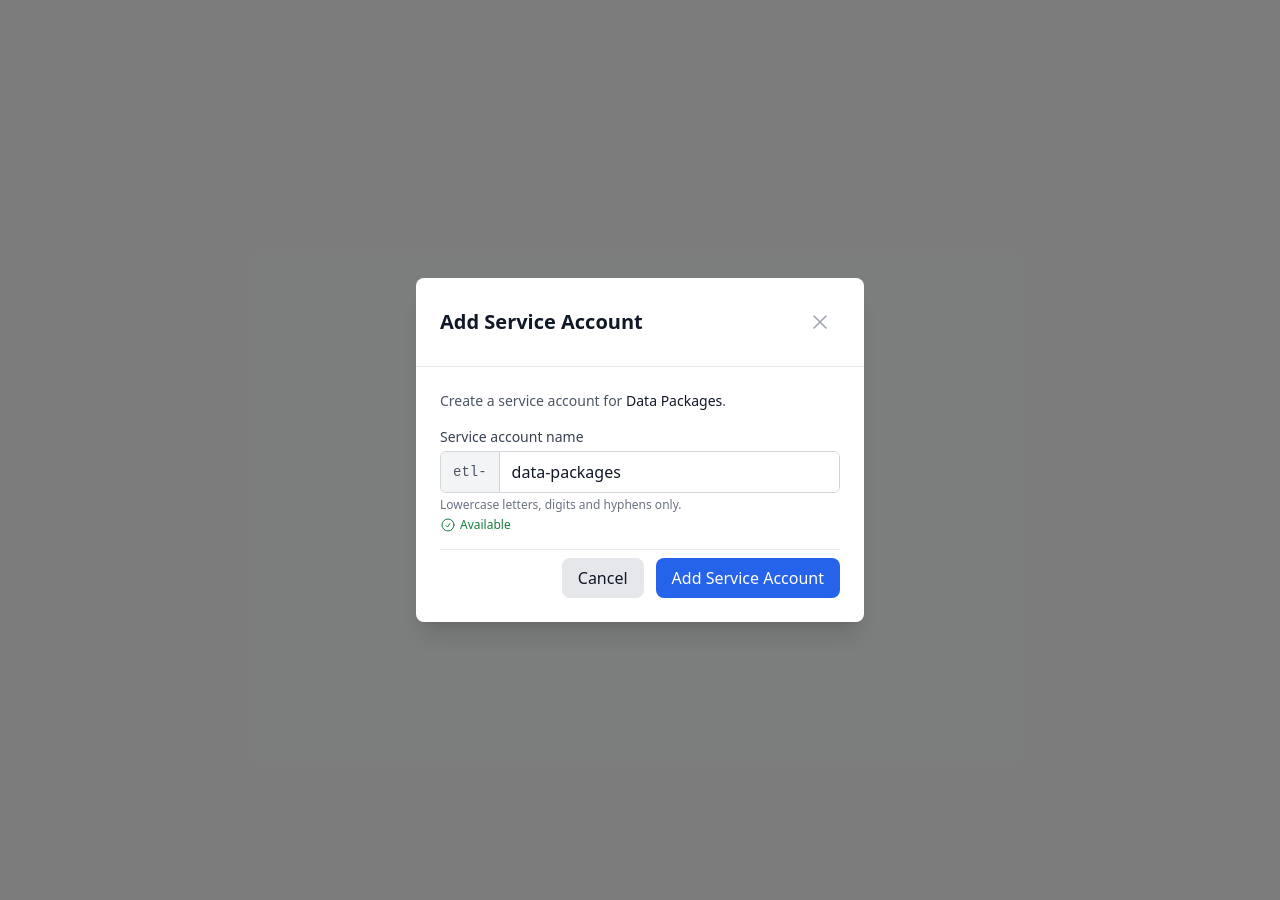
Scenario: AddServiceAccountDialog (mounted) › shows the server error inline and does not close the dialog on failure
Click the button "Add Service Account": {"x": 748, "y": 578} [656,558,840,598]
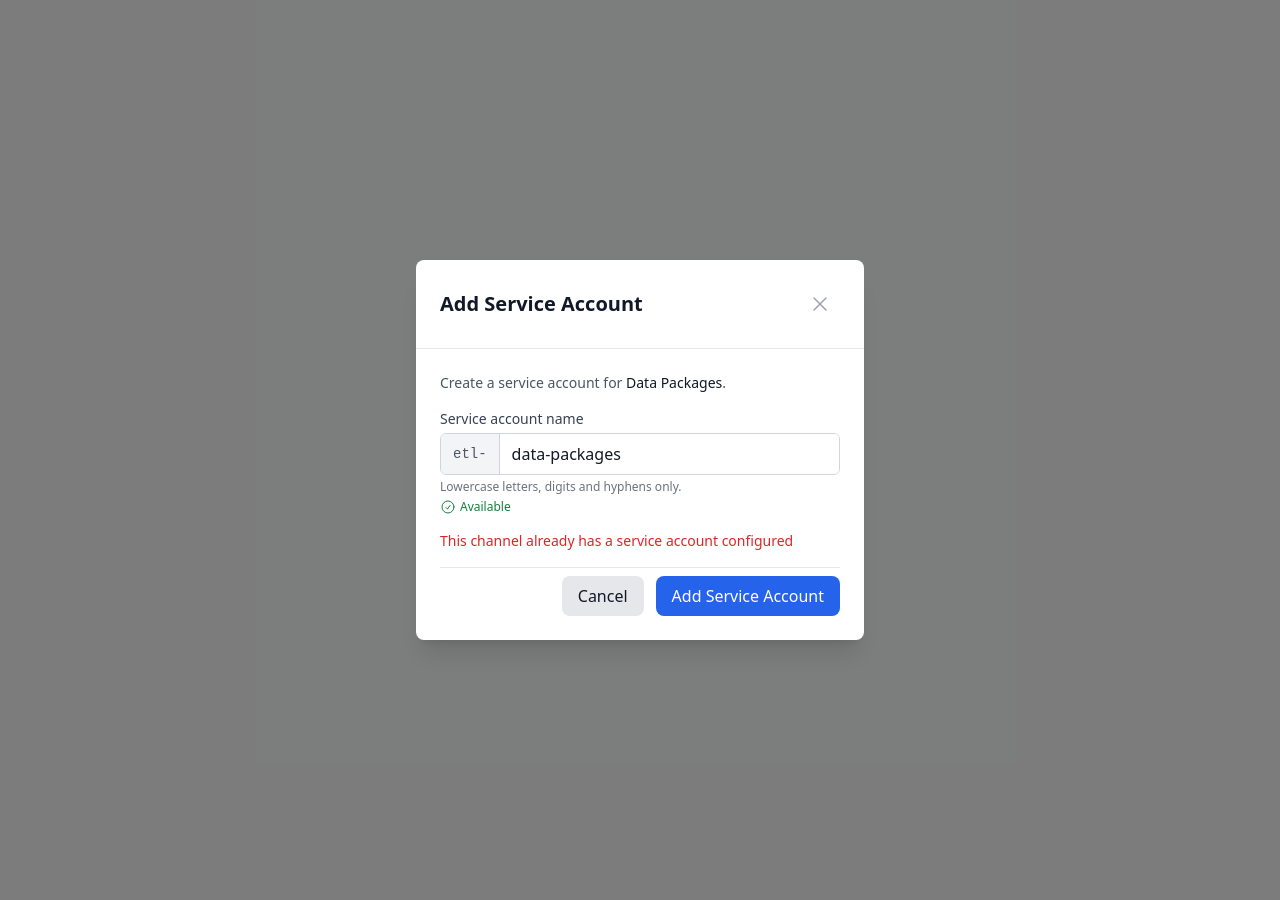
Now the text "This channel already has a service account configured" is shown, box [440,531,840,551]
